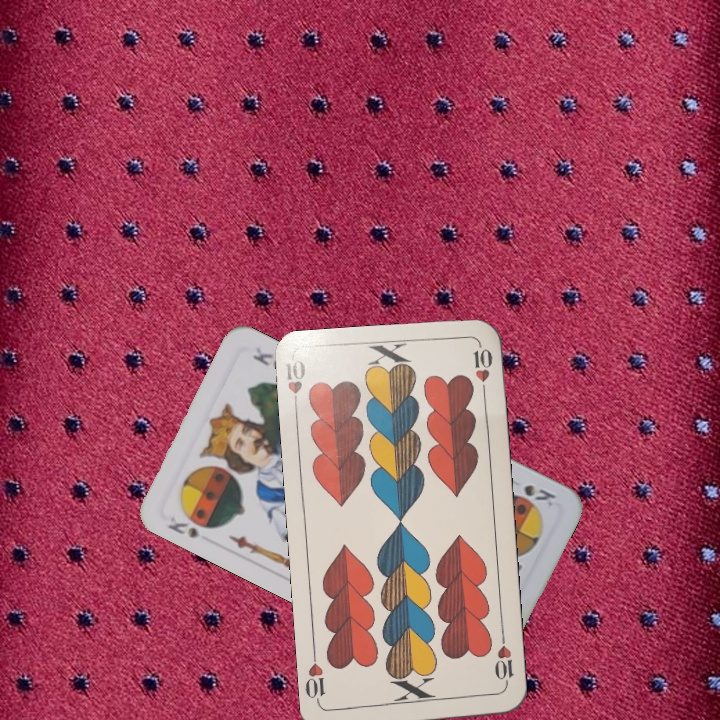H10: (490, 631, 517, 691), (282, 355, 308, 415)
SK: (520, 480, 559, 509), (163, 512, 201, 541)
